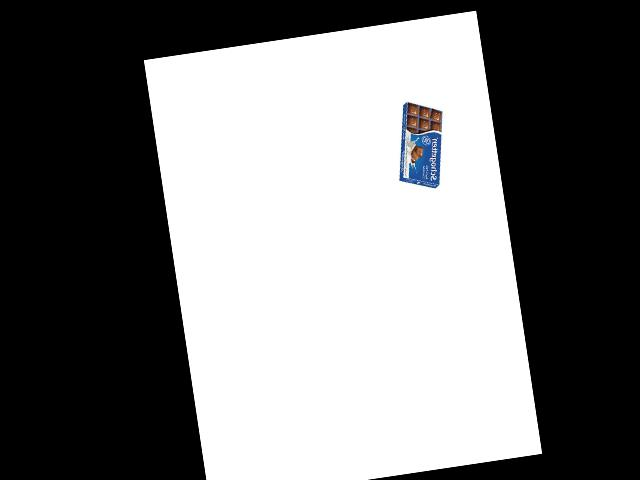chocolate: (395, 96, 453, 194)
